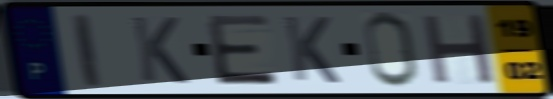0: (361, 9, 422, 90)
E: (203, 13, 281, 88)
H: (420, 12, 499, 87)
I: (69, 11, 105, 89)
K: (128, 14, 192, 87), (280, 14, 344, 87)
